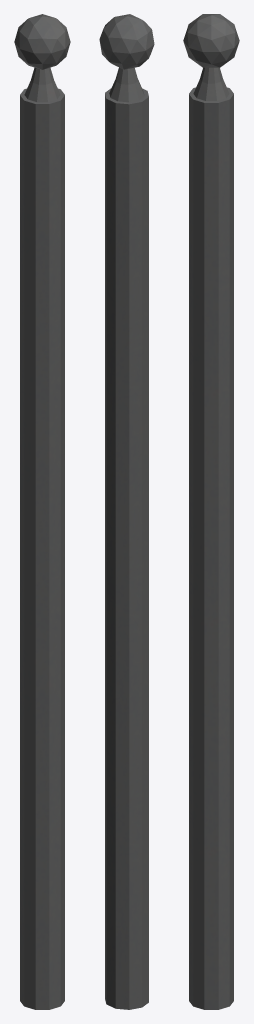
Rendered from Asta.obj.
The picture shows the model from 3 angles, left to right: view 1: azimuth 90°, elevation 25°; view 2: azimuth 150°, elevation 25°; view 3: azimuth 270°, elevation 25°; orthographic projection.
Visible parts, largest first — view 1: Asta:Mesh; view 2: Asta:Mesh; view 3: Asta:Mesh.
Boxes of the visible parts, <box> form: Asta:Mesh: <box>14,14,70,1009</box>; Asta:Mesh: <box>99,14,154,1009</box>; Asta:Mesh: <box>183,14,239,1009</box>.
Bounding box in the file's own units: 0.3483 × 7.06 × 0.3663.
1 material, 1 textured.
